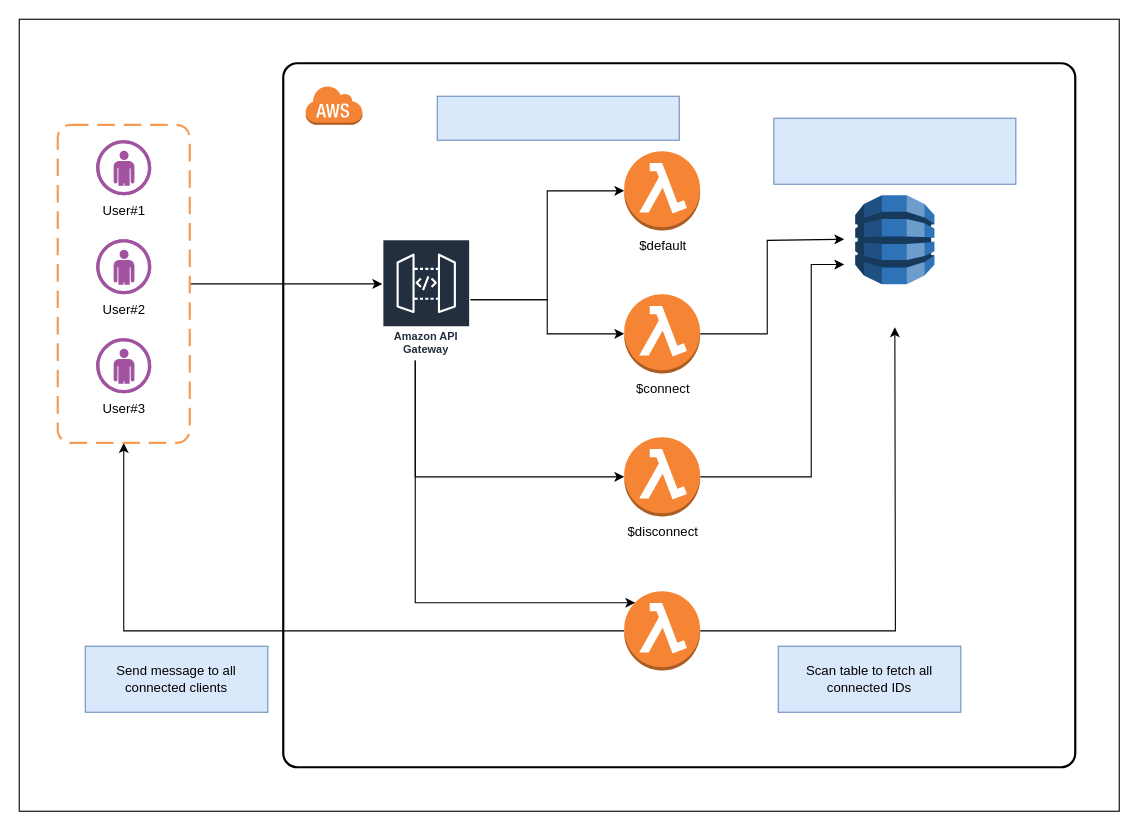
The diagram is 1139 pixels wide and 831 high, and some of its shapes have lost their labels. The shapes that lost their labels are listed below. From the top down, each one's box as (x1, y1, x2, y2) in pixels, then its label:
(436, 95, 679, 140): $default route for non-json paylods
(773, 117, 1016, 184): $connect and $disconnect are adding and removing IDs from table
(854, 194, 934, 284): Websocket Connections IDs
(623, 590, 700, 670): broadcastMessage
